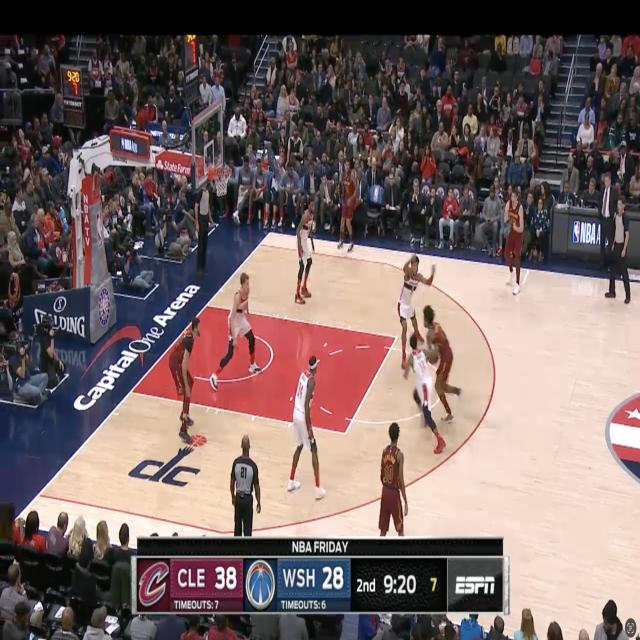no foul: (163, 261, 269, 443), (382, 309, 472, 436)
